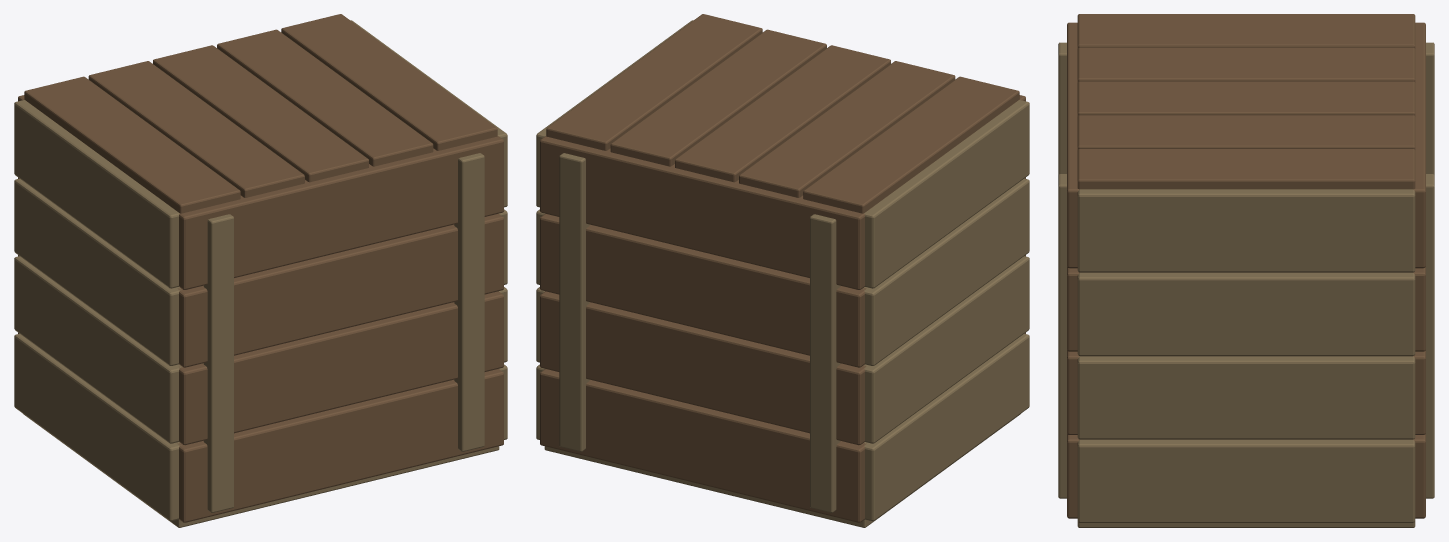
Rendered from crate.glb.
3 renders of one model, left to right at view 1: azimuth 30°, elevation 25°; view 2: azimuth 150°, elevation 25°; view 3: azimuth 270°, elevation 25°, orthographic. The views are drawn at different scales.
Visible parts, largest first — view 1: crate; view 2: crate; view 3: crate.
Boxes of the visible parts, x1,y1,x2,y2 form: crate: (14,14,507,527); crate: (536,14,1029,527); crate: (1058,14,1434,527).
Bounding box in the file's own units: 0.685 × 0.625 × 0.613.
